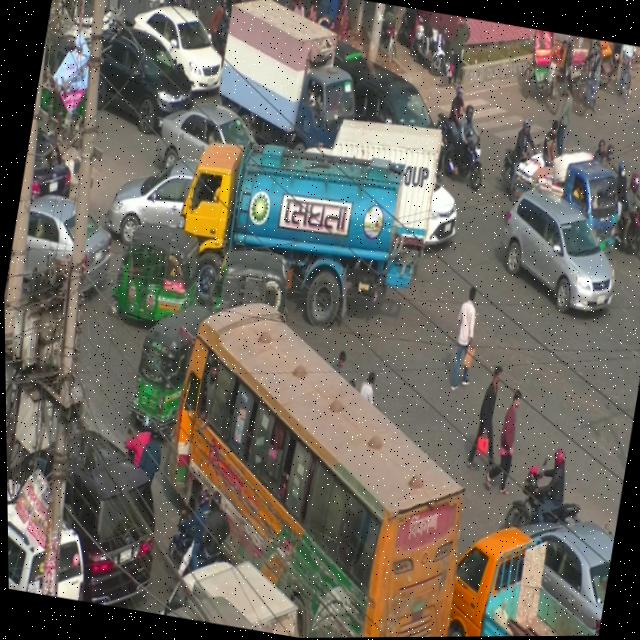cng: (111, 292, 218, 444), (104, 214, 206, 322)
rikshaw: (517, 29, 571, 105), (556, 35, 605, 113)
